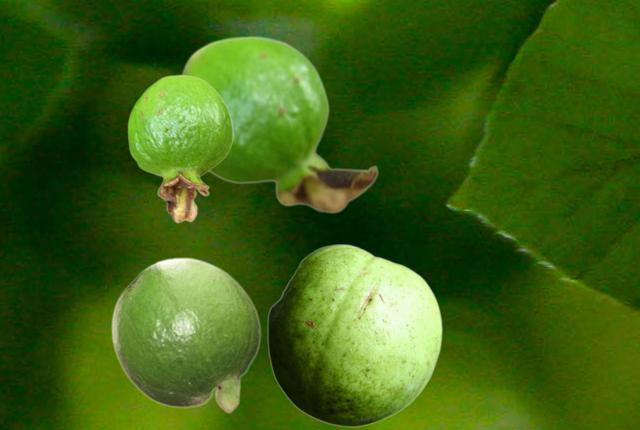guava: (181, 35, 378, 213), (267, 244, 441, 426), (110, 257, 260, 413), (127, 74, 232, 222)
